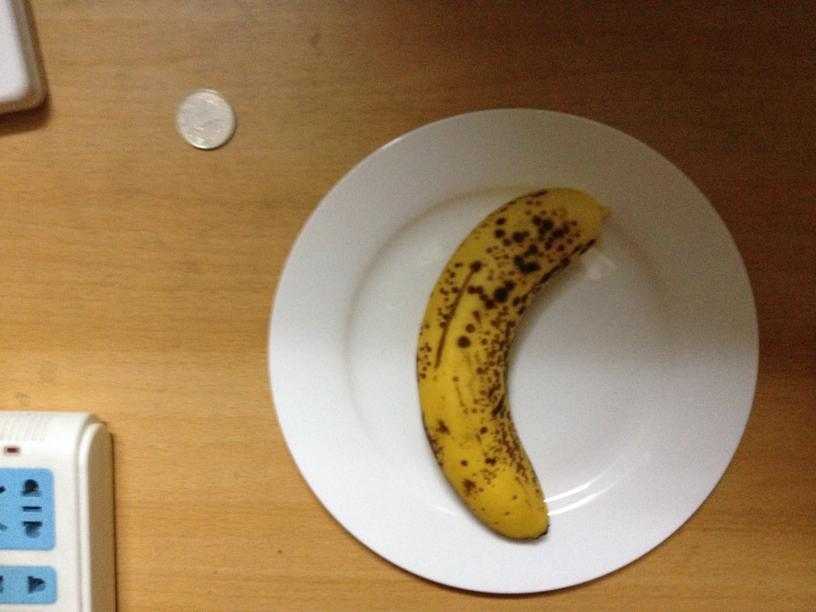banana: (417, 182, 598, 542)
coin: (174, 87, 235, 149)
